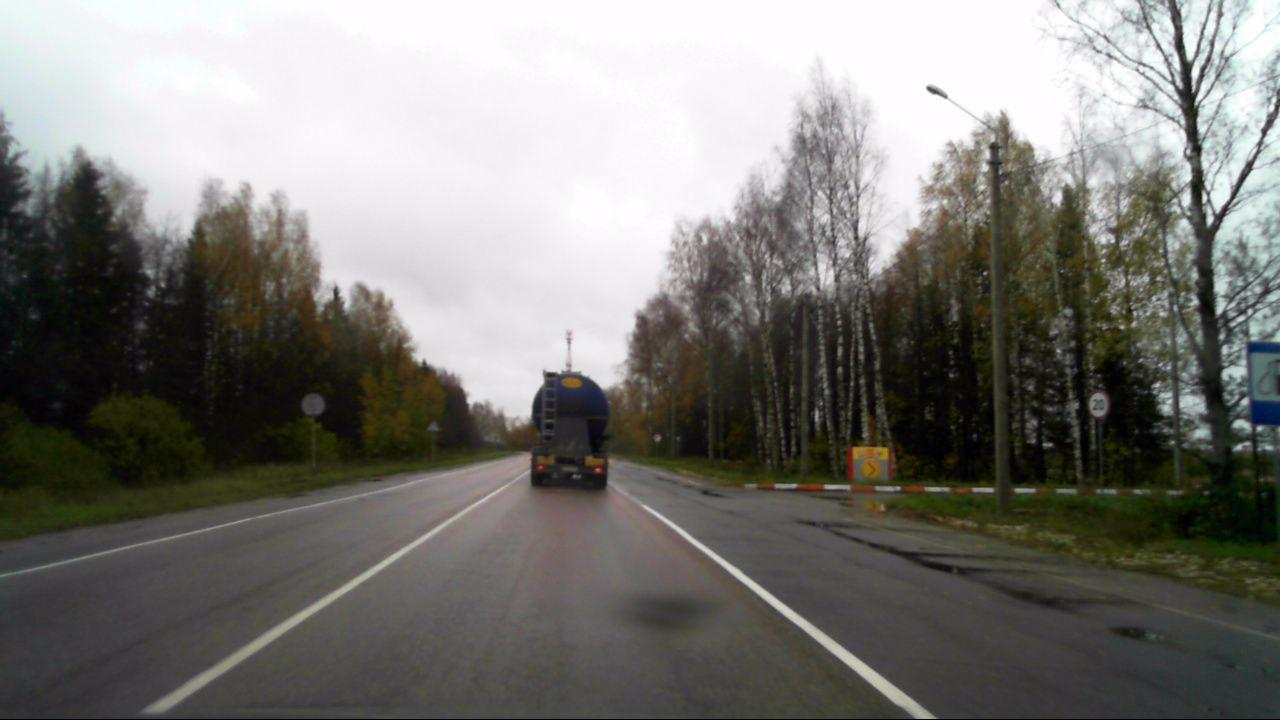obstructed_road_sign: (1246, 342, 1280, 427)
road_sign: (1087, 390, 1110, 419)
